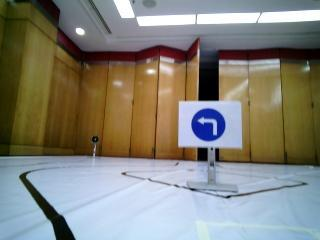left: (180, 102, 243, 144)
